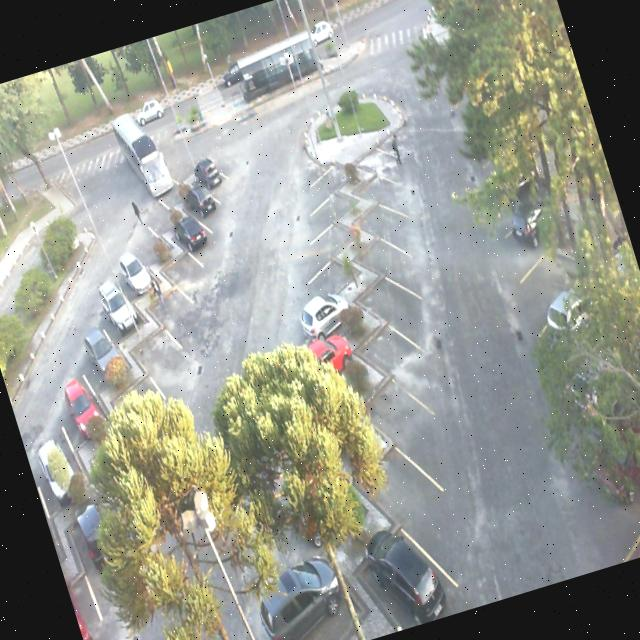empty: (353, 422, 458, 550), (350, 354, 442, 469), (351, 299, 433, 394), (344, 252, 421, 334), (122, 303, 186, 387), (347, 208, 418, 282), (294, 229, 361, 293), (140, 261, 197, 336), (149, 224, 207, 296), (287, 198, 354, 260), (346, 174, 409, 238), (349, 146, 409, 204), (300, 167, 360, 220), (121, 202, 172, 264), (353, 124, 409, 178), (295, 140, 352, 190)
occupied: (344, 486, 452, 625), (254, 526, 374, 640), (42, 348, 112, 442), (61, 296, 130, 385), (282, 276, 359, 352), (84, 260, 148, 342), (106, 233, 163, 301), (172, 163, 225, 223), (167, 196, 219, 256), (146, 148, 195, 208), (136, 175, 185, 234), (186, 142, 231, 198)
